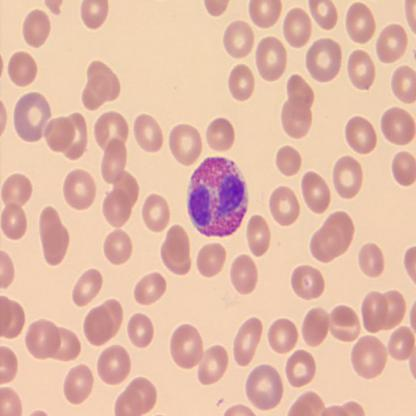Eosinophil: (187, 156, 249, 237)
